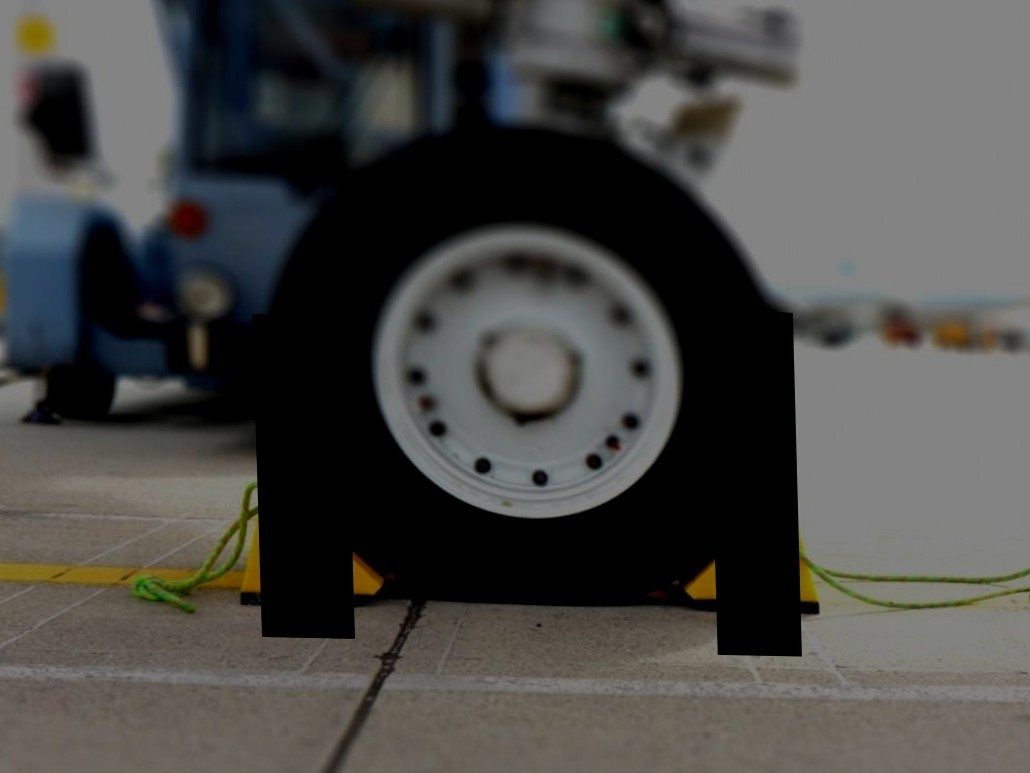chock: (232, 474, 399, 605), (671, 481, 822, 613)
wheel: (272, 121, 785, 608), (46, 368, 115, 417)
